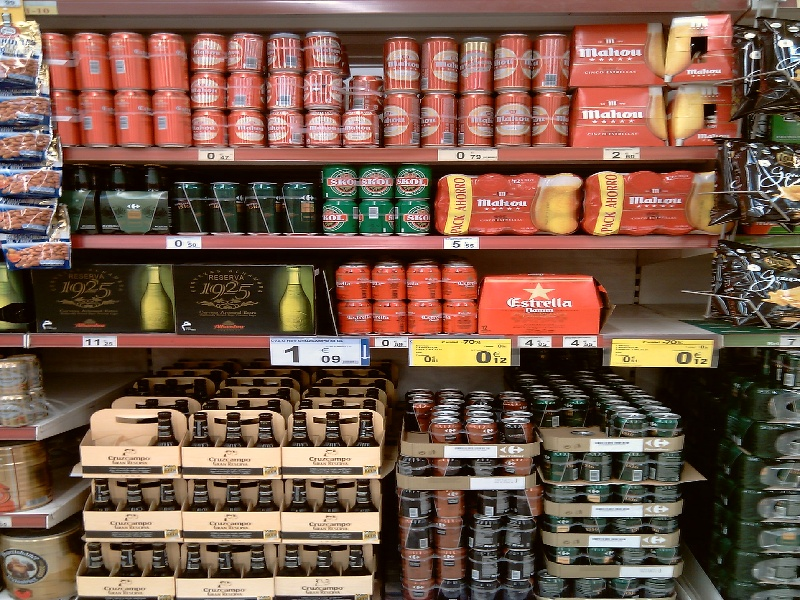beer: (149, 89, 199, 151), (526, 88, 575, 147), (490, 28, 533, 95), (146, 30, 190, 95), (106, 31, 152, 93), (78, 89, 121, 153), (379, 34, 424, 95), (454, 89, 498, 151), (493, 87, 536, 150), (533, 34, 577, 94), (72, 30, 113, 94), (378, 89, 420, 150), (421, 30, 460, 95), (116, 92, 158, 151), (417, 90, 461, 146), (456, 34, 493, 96), (211, 178, 246, 241), (246, 176, 282, 237), (172, 178, 209, 235), (442, 259, 485, 306), (403, 258, 445, 306), (283, 178, 317, 236), (370, 260, 415, 301), (395, 163, 438, 205), (356, 163, 401, 203), (395, 199, 433, 246), (335, 262, 376, 302), (319, 164, 359, 204), (320, 197, 358, 237), (356, 198, 393, 239)
